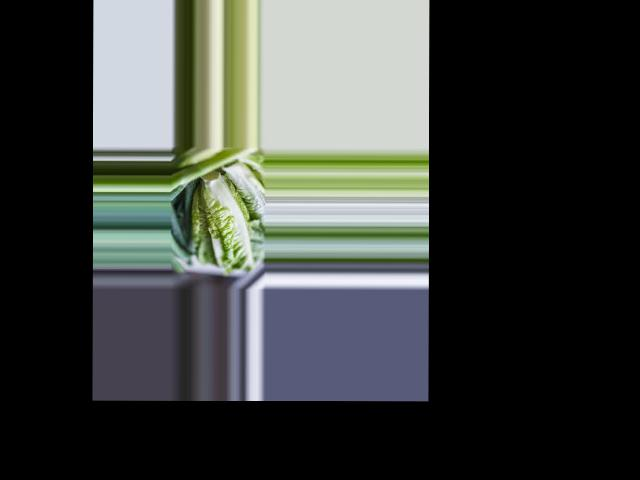lettuce: (180, 175, 269, 284)
